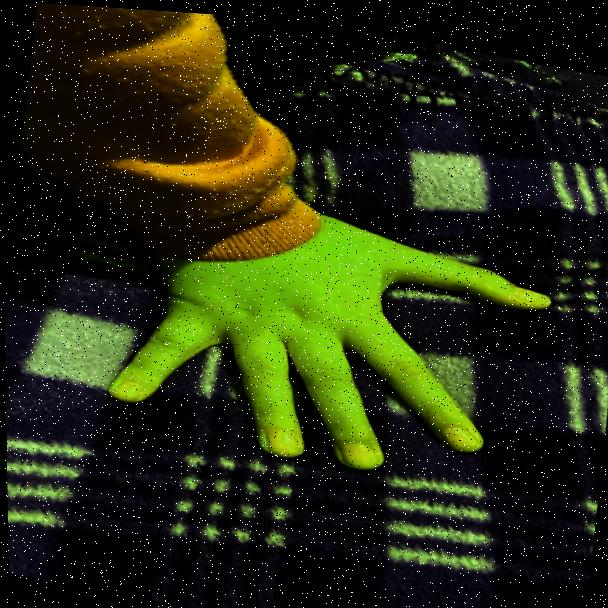five: (98, 173, 551, 507)
